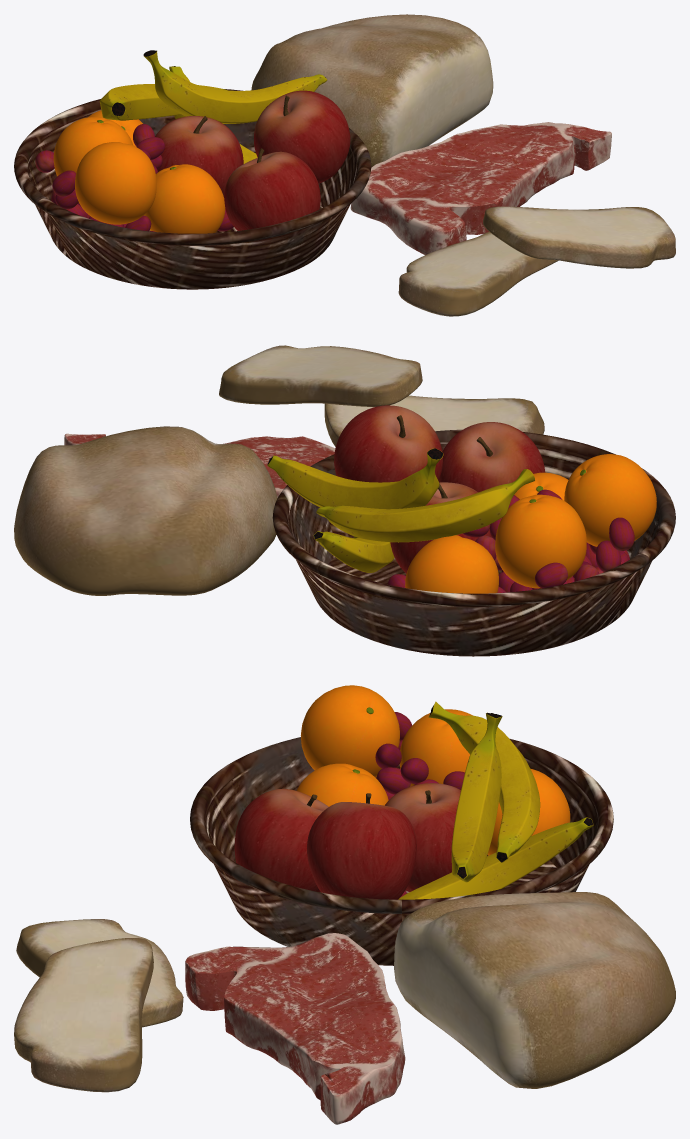
File: tabua-frutas-carnes-paes-android.glb
The picture shows the model from 3 angles, top to bottom: view 1: azimuth 30°, elevation 25°; view 2: azimuth 150°, elevation 25°; view 3: azimuth 270°, elevation 25°; orthographic projection. The views are drawn at different scales.
Parts seen in each view (by area): view 1: canastas_canasta_0, frutas_frutas_0, carne_carne_0; view 2: canastas_canasta_0, frutas_frutas_0, carne_carne_0; view 3: canastas_canasta_0, frutas_frutas_0, carne_carne_0.
Part boxes in pixels (bbox=[...]): canastas_canasta_0: bbox=[14, 14, 675, 316]; frutas_frutas_0: bbox=[35, 50, 350, 233]; carne_carne_0: bbox=[350, 122, 611, 254]; canastas_canasta_0: bbox=[14, 345, 675, 656]; frutas_frutas_0: bbox=[267, 405, 656, 593]; carne_carne_0: bbox=[64, 433, 335, 497]; canastas_canasta_0: bbox=[14, 737, 675, 1092]; frutas_frutas_0: bbox=[234, 685, 593, 899]; carne_carne_0: bbox=[185, 933, 405, 1124].
Bounding box in the file's own units: 0.3783 × 0.1042 × 0.3334.
3 materials, 3 textured.
